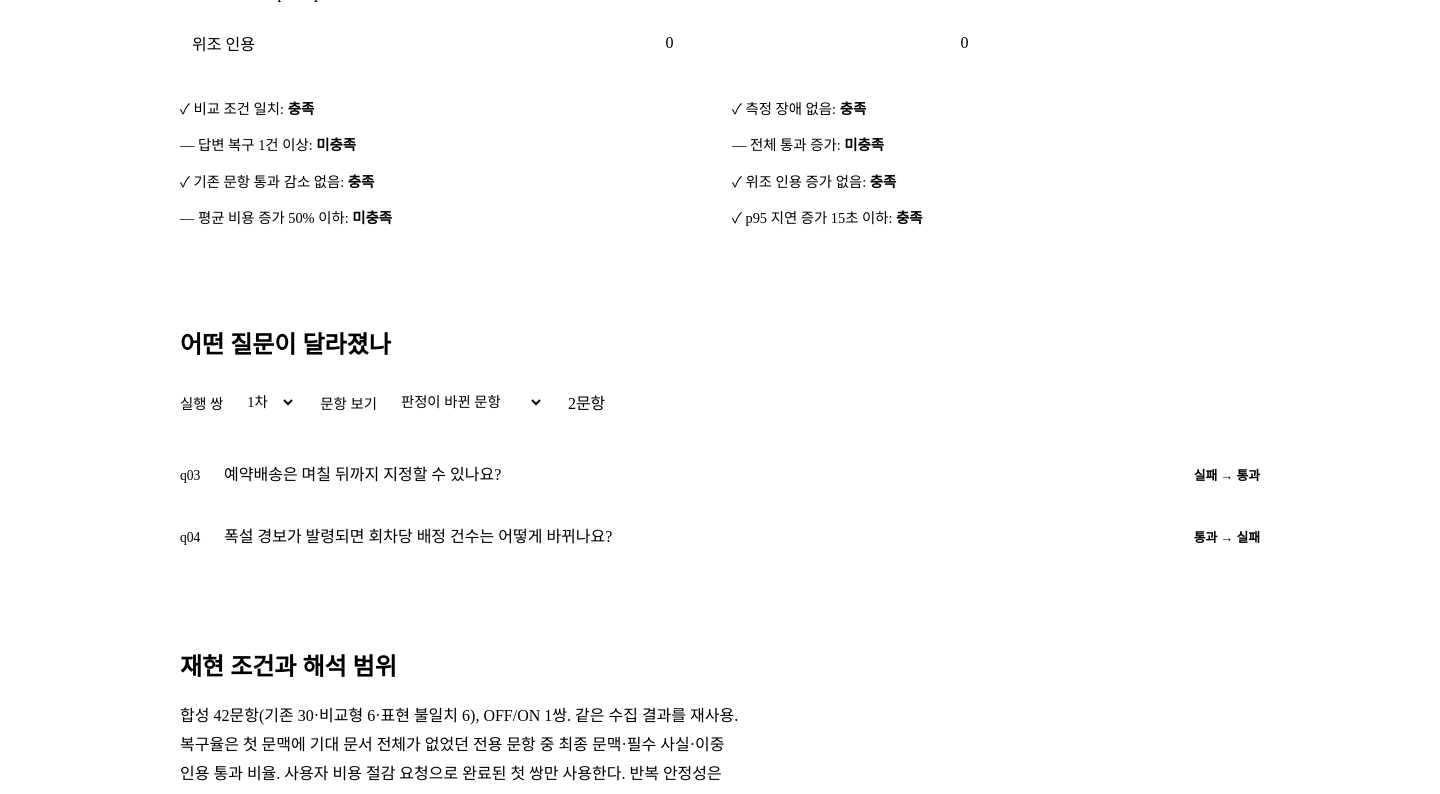
재검색 실험 공개 페이지 › 통합 페이지에서는 개선·회귀로 판정이 바뀐 문항부터 보여준다
(page scrolled)
Expected: the text "예약배송은 며칠 뒤까지 지정할 수 있나요?" is shown, x1=224 y1=462 x2=501 y2=488
Expected: the text "폭설 경보가 발령되면 회차당 배정 건수는 어떻게 바뀌나요?" is shown, x1=224 y1=524 x2=612 y2=550
Select "전체 문항" in the dropdown labelled "문항 보기" at (464, 402), box x1=385 y1=384 x2=544 y2=420
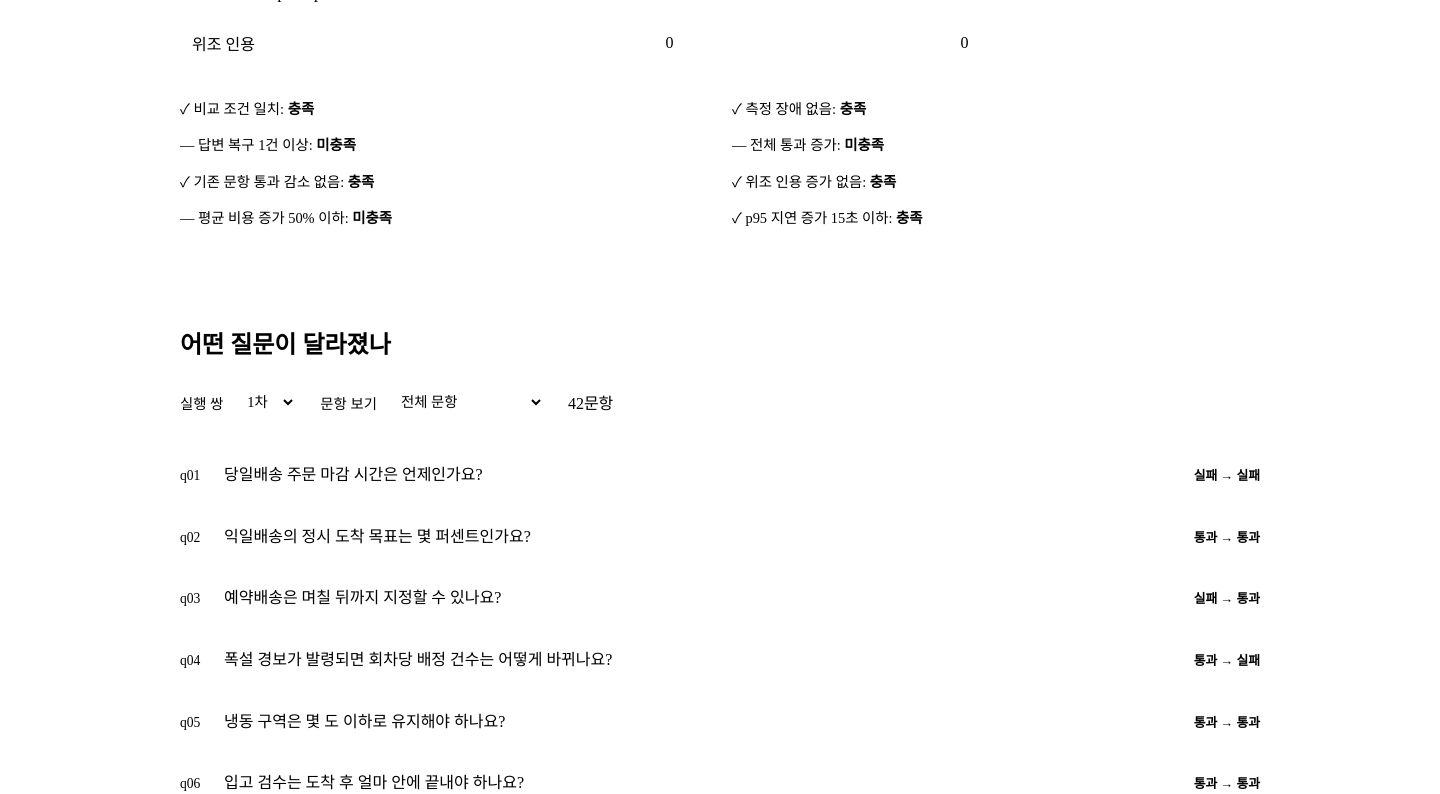
Expected: the text "익일배송의 정시 도착 목표는 몇 퍼센트인가요?" is shown, x1=224 y1=524 x2=531 y2=550
